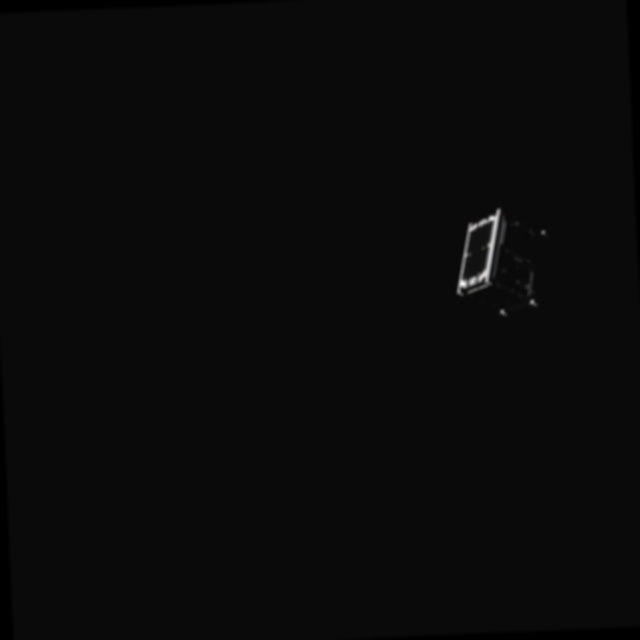satellite: (454, 204, 555, 321)
